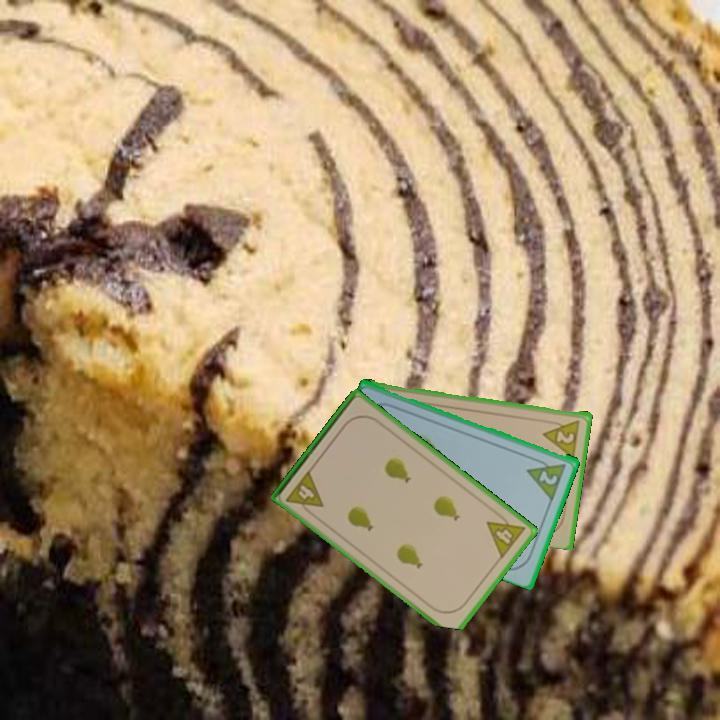2p: (524, 453, 569, 501), (540, 416, 583, 459)
4p: (483, 507, 529, 562), (282, 466, 327, 519)
